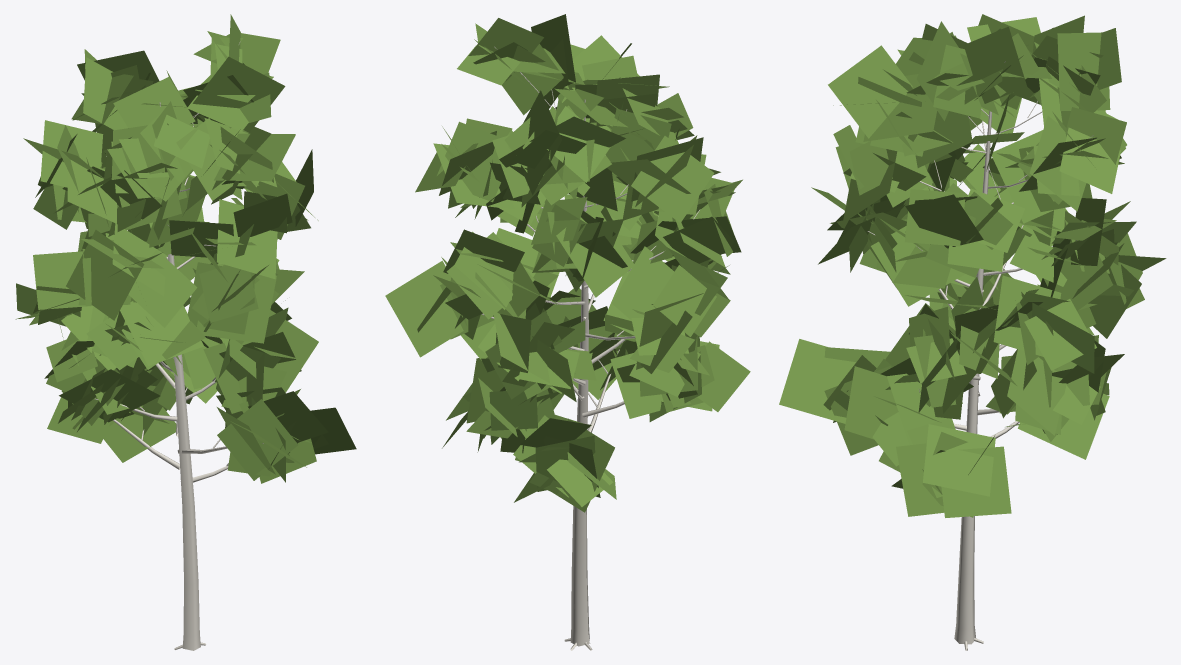
Rendered from birch-3-lod2.glb.
3 renders of one model, left to right at view 1: azimuth 30°, elevation 25°; view 2: azimuth 150°, elevation 25°; view 3: azimuth 270°, elevation 25°, orthographic. The views are drawn at different scales.
Parts seen in each view (by area): view 1: birch-3-lod2-foliage, birch-3-lod2-bark; view 2: birch-3-lod2-foliage, birch-3-lod2-bark; view 3: birch-3-lod2-foliage, birch-3-lod2-bark.
Boxes of the visible parts, x1,y1,x2,y2 form: birch-3-lod2-foliage: (15, 14, 356, 483); birch-3-lod2-bark: (95, 41, 263, 650); birch-3-lod2-foliage: (385, 14, 750, 512); birch-3-lod2-bark: (482, 46, 700, 650); birch-3-lod2-foliage: (779, 14, 1166, 517); birch-3-lod2-bark: (867, 61, 1093, 650).
Size of the model in its own units: 16.18 by 32.65 by 17.71.
